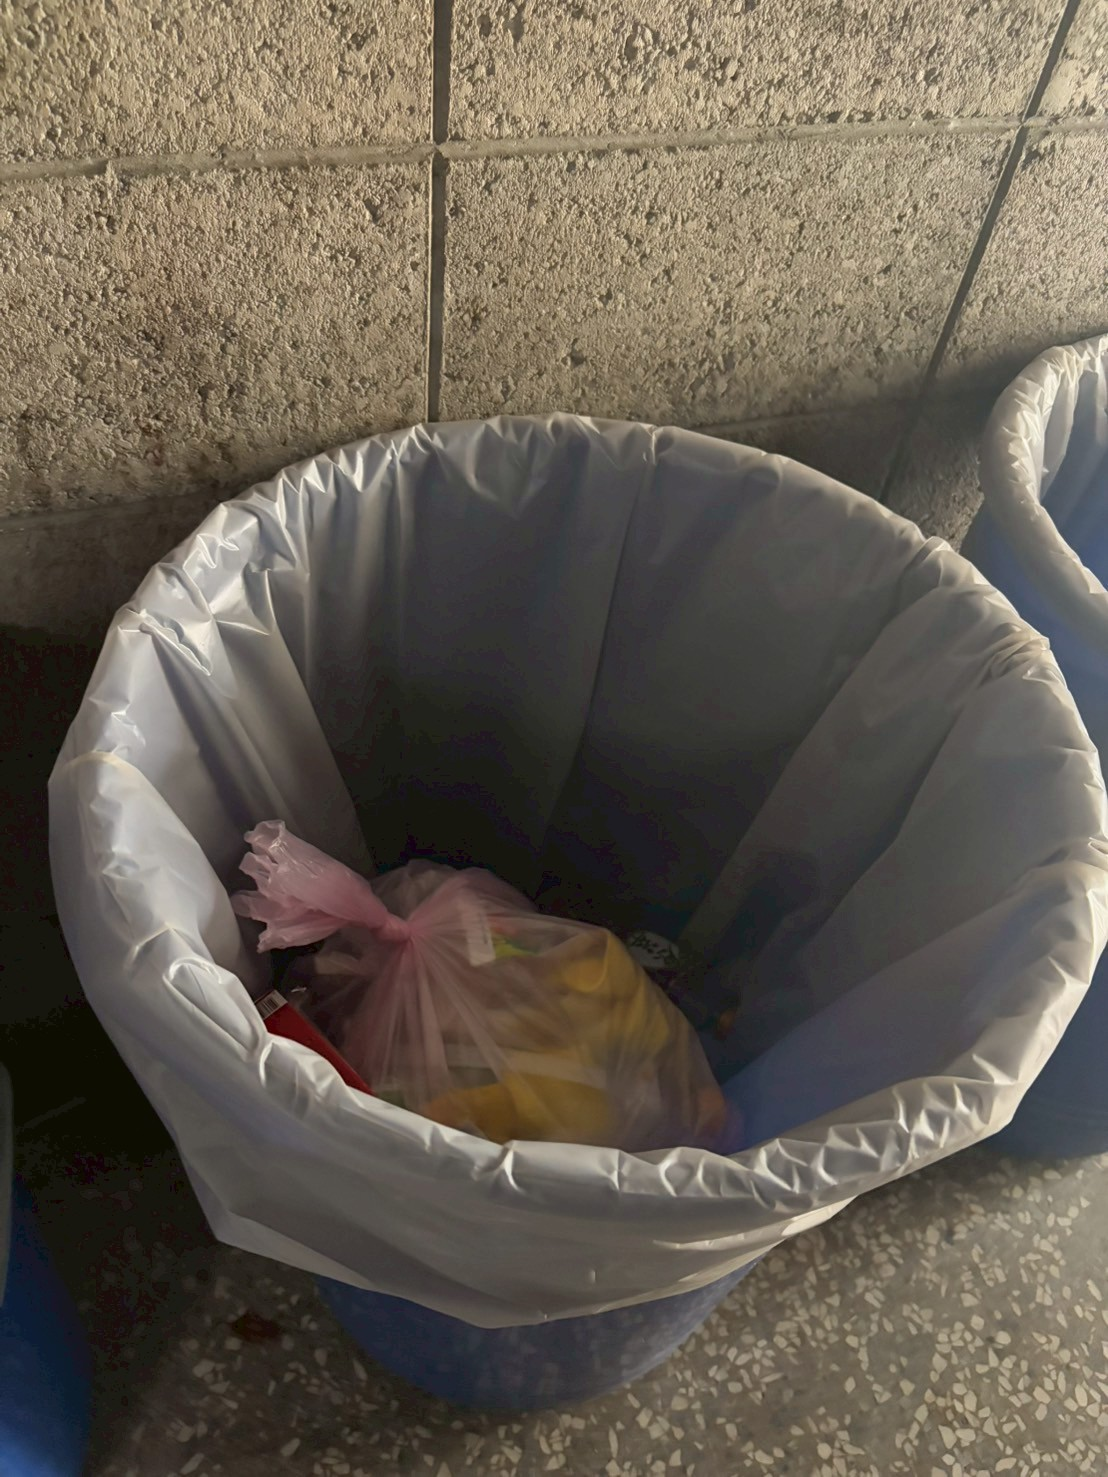normal_bin: (38, 403, 1108, 1451)
